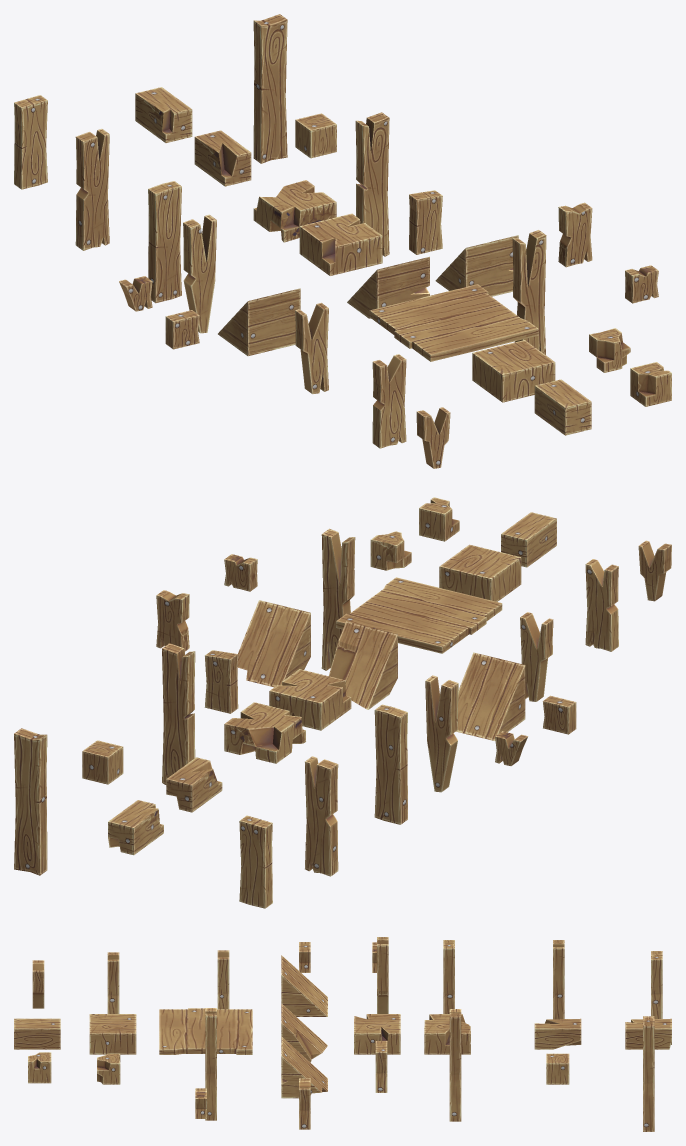
Rendered from woods.gltf.
The picture shows the model from 3 angles, top to bottom: view 1: azimuth 30°, elevation 25°; view 2: azimuth 150°, elevation 25°; view 3: azimuth 270°, elevation 25°; orthographic projection. The views are drawn at different scales.
Parts seen in each view (by area): view 1: Wood_Platform_8x1x8_Geo, Wood_Long_2x10x1_Whole_Geo, Wood_Square_4x2x4_HalfBroken_Geo, Wood_Long_2x10x1_Halfbroken_Geo, Wood_Long_2x8x1_Whole_Geo, Wood_Long_2x8x1_Halfbroken_Geo, Wood_Square_4x2x4_Whole_Geo, Wood_Ramp_4x4x4_Whole_Geo, Wood_Square_4x2x4_Broken_Geo, Wood_Long_2x10x1_Broken_Geo, Wood_Long_2x8x1_Broken_Geo, Wood_Ramp_4x4x4_HalfBroken_Geo (+16 smaller); view 2: Wood_Platform_8x1x8_Geo, Wood_Ramp_4x4x4_Whole_Geo, Wood_Ramp_4x4x4_HalfBroken_Geo, Wood_Long_2x10x1_Whole_Geo, Wood_Ramp_4x4x4_Broken_Geo, Wood_Long_2x10x1_Halfbroken_Geo, Wood_Long_2x8x1_Whole_Geo, Wood_Long_2x8x1_Halfbroken_Geo, Wood_Square_4x2x4_Broken_Geo, Wood_Square_4x2x4_Whole_Geo, Wood_Square_4x2x4_HalfBroken_Geo, Wood_Long_2x10x1_Broken_Geo (+16 smaller); view 3: Wood_Platform_8x1x8_Geo, Wood_Square_4x2x4_Whole_Geo, Wood_Ramp_4x4x4_Whole_Geo, Wood_Square_4x2x4_HalfBroken_Geo, Wood_Ramp_4x4x4_HalfBroken_Geo, Wood_Square_2x4x2_Whole_Geo, Wood_Long_2x10x1_Halfbroken_Geo, Wood_Long_2x10x1_Whole_Geo, Wood_Square_4x2x4_Broken_Geo, Wood_Square_2x4x2_Broken_Geo, Wood_Ramp_4x4x4_Broken_Geo, Wood_Long_2x10x1_Broken_Geo (+15 smaller).
Part boxes in pixels (bbox=[...]): Wood_Platform_8x1x8_Geo: bbox=[369, 284, 538, 361]; Wood_Long_2x10x1_Whole_Geo: bbox=[253, 14, 287, 163]; Wood_Square_4x2x4_HalfBroken_Geo: bbox=[299, 213, 382, 275]; Wood_Long_2x10x1_Halfbroken_Geo: bbox=[355, 112, 389, 256]; Wood_Long_2x8x1_Whole_Geo: bbox=[148, 181, 181, 303]; Wood_Long_2x8x1_Halfbroken_Geo: bbox=[75, 128, 109, 250]; Wood_Square_4x2x4_Whole_Geo: bbox=[472, 340, 555, 402]; Wood_Ramp_4x4x4_Whole_Geo: bbox=[218, 288, 300, 356]; Wood_Square_4x2x4_Broken_Geo: bbox=[253, 180, 336, 242]; Wood_Long_2x10x1_Broken_Geo: bbox=[512, 230, 546, 354]; Wood_Long_2x8x1_Broken_Geo: bbox=[183, 214, 216, 333]; Wood_Ramp_4x4x4_HalfBroken_Geo: bbox=[435, 235, 518, 296]; Wood_Platform_8x1x8_Geo: bbox=[336, 577, 502, 653]; Wood_Ramp_4x4x4_Whole_Geo: bbox=[456, 652, 525, 741]; Wood_Ramp_4x4x4_HalfBroken_Geo: bbox=[237, 600, 310, 687]; Wood_Long_2x10x1_Whole_Geo: bbox=[14, 728, 47, 875]; Wood_Ramp_4x4x4_Broken_Geo: bbox=[329, 621, 397, 709]; Wood_Long_2x10x1_Halfbroken_Geo: bbox=[162, 643, 195, 784]; Wood_Long_2x8x1_Whole_Geo: bbox=[374, 704, 407, 824]; Wood_Long_2x8x1_Halfbroken_Geo: bbox=[305, 756, 338, 876]; Wood_Square_4x2x4_Broken_Geo: bbox=[224, 702, 305, 763]; Wood_Square_4x2x4_Whole_Geo: bbox=[439, 544, 521, 601]; Wood_Square_4x2x4_HalfBroken_Geo: bbox=[269, 669, 351, 730]; Wood_Long_2x10x1_Broken_Geo: bbox=[321, 528, 355, 670]; Wood_Platform_8x1x8_Geo: bbox=[159, 1008, 252, 1054]; Wood_Square_4x2x4_Whole_Geo: bbox=[89, 1014, 136, 1054]; Wood_Ramp_4x4x4_Whole_Geo: bbox=[281, 955, 327, 1016]; Wood_Square_4x2x4_HalfBroken_Geo: bbox=[354, 1014, 400, 1054]; Wood_Ramp_4x4x4_HalfBroken_Geo: bbox=[281, 1036, 327, 1098]; Wood_Square_2x4x2_Whole_Geo: bbox=[14, 1018, 60, 1049]; Wood_Long_2x10x1_Halfbroken_Geo: bbox=[449, 1009, 461, 1121]; Wood_Long_2x10x1_Whole_Geo: bbox=[643, 1016, 654, 1131]; Wood_Square_4x2x4_Broken_Geo: bbox=[424, 1014, 470, 1054]; Wood_Square_2x4x2_Broken_Geo: bbox=[534, 1018, 581, 1049]; Wood_Ramp_4x4x4_Broken_Geo: bbox=[281, 1003, 327, 1062]; Wood_Long_2x10x1_Broken_Geo: bbox=[205, 1008, 216, 1120].
Bounding box in the file's own units: 31.78 × 10 × 56.46.
Materials: 28 (28 with a texture image).
